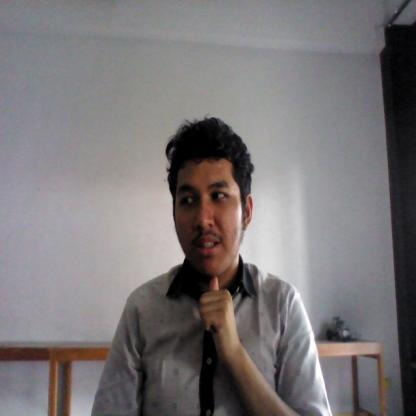Siapa: (195, 268, 242, 362)
